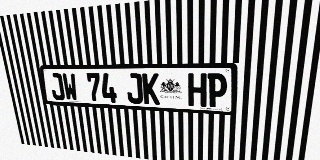4: (100, 73, 117, 103)
7: (85, 73, 102, 102)
H: (188, 73, 207, 107)
J: (125, 73, 143, 104), (49, 73, 65, 100)
K: (142, 73, 160, 105)
P: (207, 73, 227, 108)
W: (62, 73, 78, 101)
